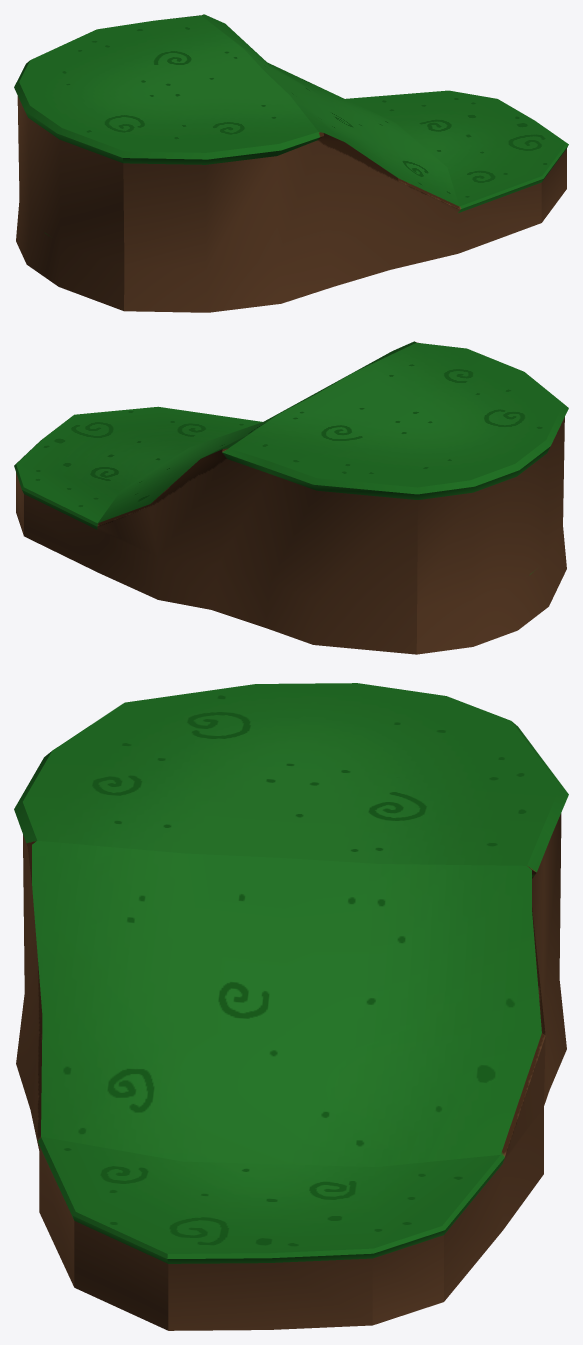
Rendered from FinishPlatform.fbx.
The picture shows the model from 3 angles, top to bottom: view 1: azimuth 30°, elevation 25°; view 2: azimuth 150°, elevation 25°; view 3: azimuth 270°, elevation 25°; orthographic projection. The views are drawn at different scales.
Parts seen in each view (by area): view 1: GrassEnd; view 2: GrassEnd; view 3: GrassEnd.
Boxes of the visible parts, x1,y1,x2,y2 form: GrassEnd: [14, 14, 568, 312]; GrassEnd: [14, 341, 568, 654]; GrassEnd: [14, 683, 568, 1330].
Size of the model in its own units: 2287 by 713 by 1371.
Materials: 1 (1 with a texture image).
